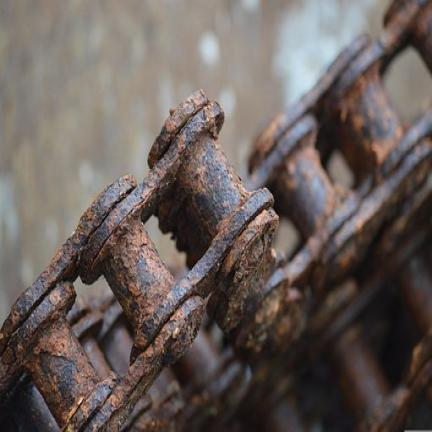karat: (0, 91, 278, 429)
